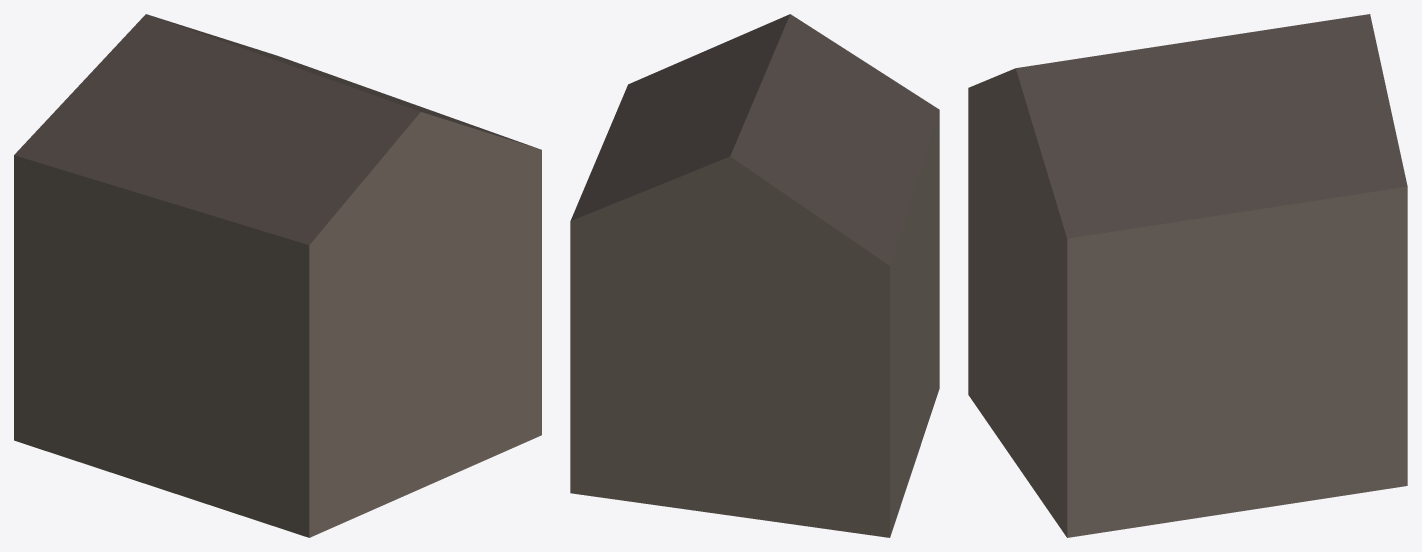
The picture shows the model from 3 angles, left to right: view 1: azimuth 30°, elevation 25°; view 2: azimuth 150°, elevation 25°; view 3: azimuth 270°, elevation 25°; orthographic projection. The views are drawn at different scales.
Visible parts, largest first — view 1: HP-w1198721570; view 2: HP-w1198721570; view 3: HP-w1198721570.
Boxes of the visible parts, x1,y1,x2,y2 form: HP-w1198721570: (14, 14, 541, 537); HP-w1198721570: (570, 14, 939, 537); HP-w1198721570: (968, 14, 1407, 537).
Bounding box in the file's own units: 8.83 × 7.92 × 7.98.
